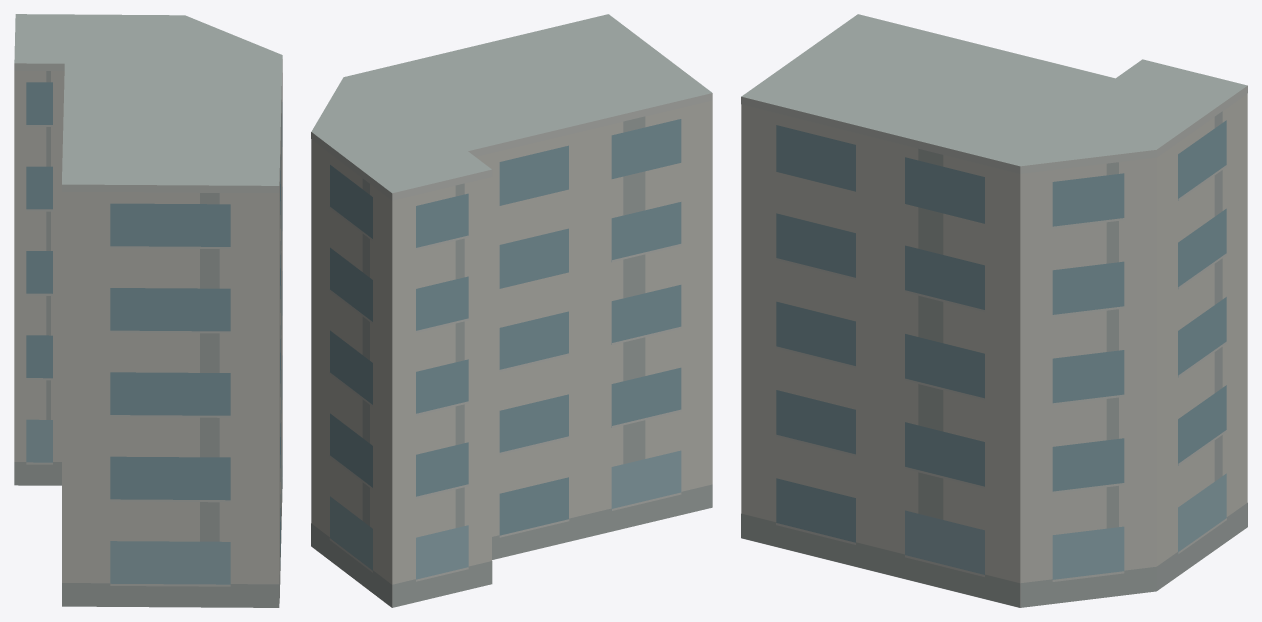
Rendered from survey-upis-32674580.glb.
3 renders of one model, left to right at view 1: azimuth 30°, elevation 25°; view 2: azimuth 150°, elevation 25°; view 3: azimuth 270°, elevation 25°, orthographic. The views are drawn at different scales.
Parts seen in each view (by area): view 1: survey-upis-32674580.tmp; view 2: survey-upis-32674580.tmp; view 3: survey-upis-32674580.tmp.
Part boxes in pixels (bbox=[...]): survey-upis-32674580.tmp: bbox=[14, 14, 282, 607]; survey-upis-32674580.tmp: bbox=[311, 14, 712, 607]; survey-upis-32674580.tmp: bbox=[741, 14, 1247, 607].
Size of the model in its own units: 10.23 by 13.82 by 14.38.
